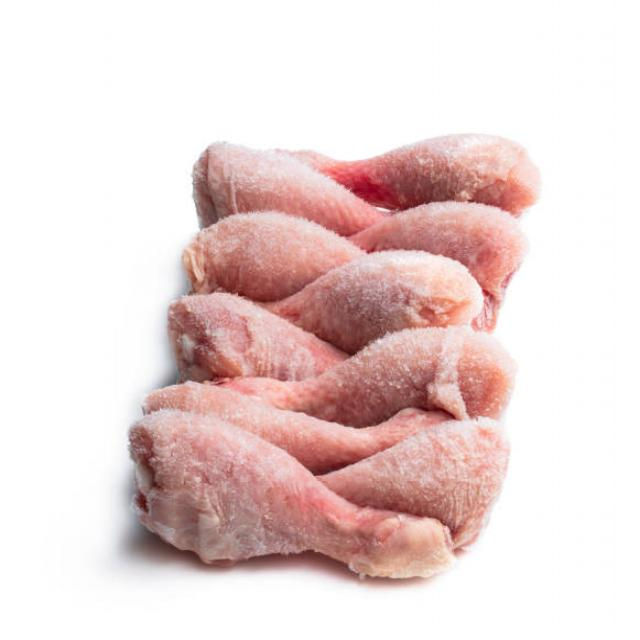Chicken: (122, 416, 436, 585), (269, 325, 530, 427), (280, 128, 556, 204)
